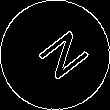N_SW: (23, 24, 87, 86)
